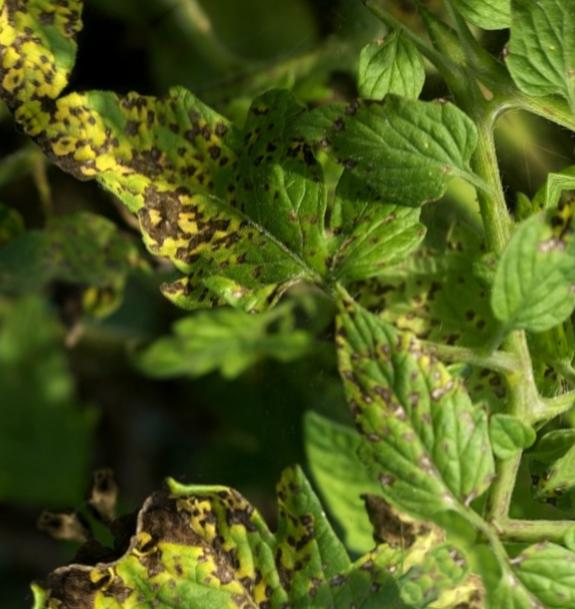Tomato Septoria leaf spot: (11, 0, 373, 368), (260, 258, 527, 549), (110, 388, 448, 609)
